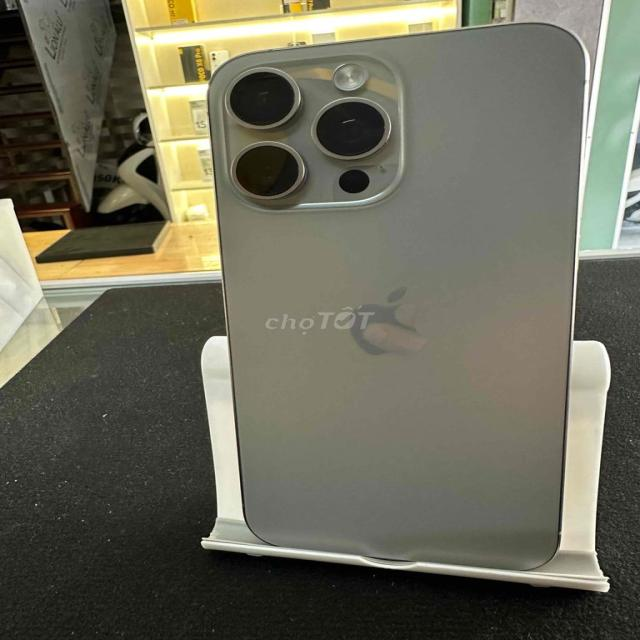scratch: (323, 162, 404, 206)
